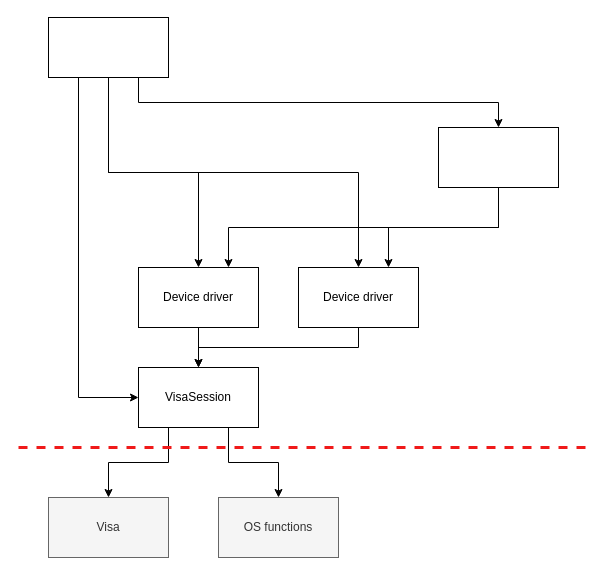
Some shapes in this 608 by 575 pixel diagram are drawn without their labels. The shapes that lost their labels are listed below. From the top down, each one's box as (x1, y1, x2, y2) in pixels, then its label:
(48, 16, 168, 78): User application
(438, 126, 558, 188): Generic driver
